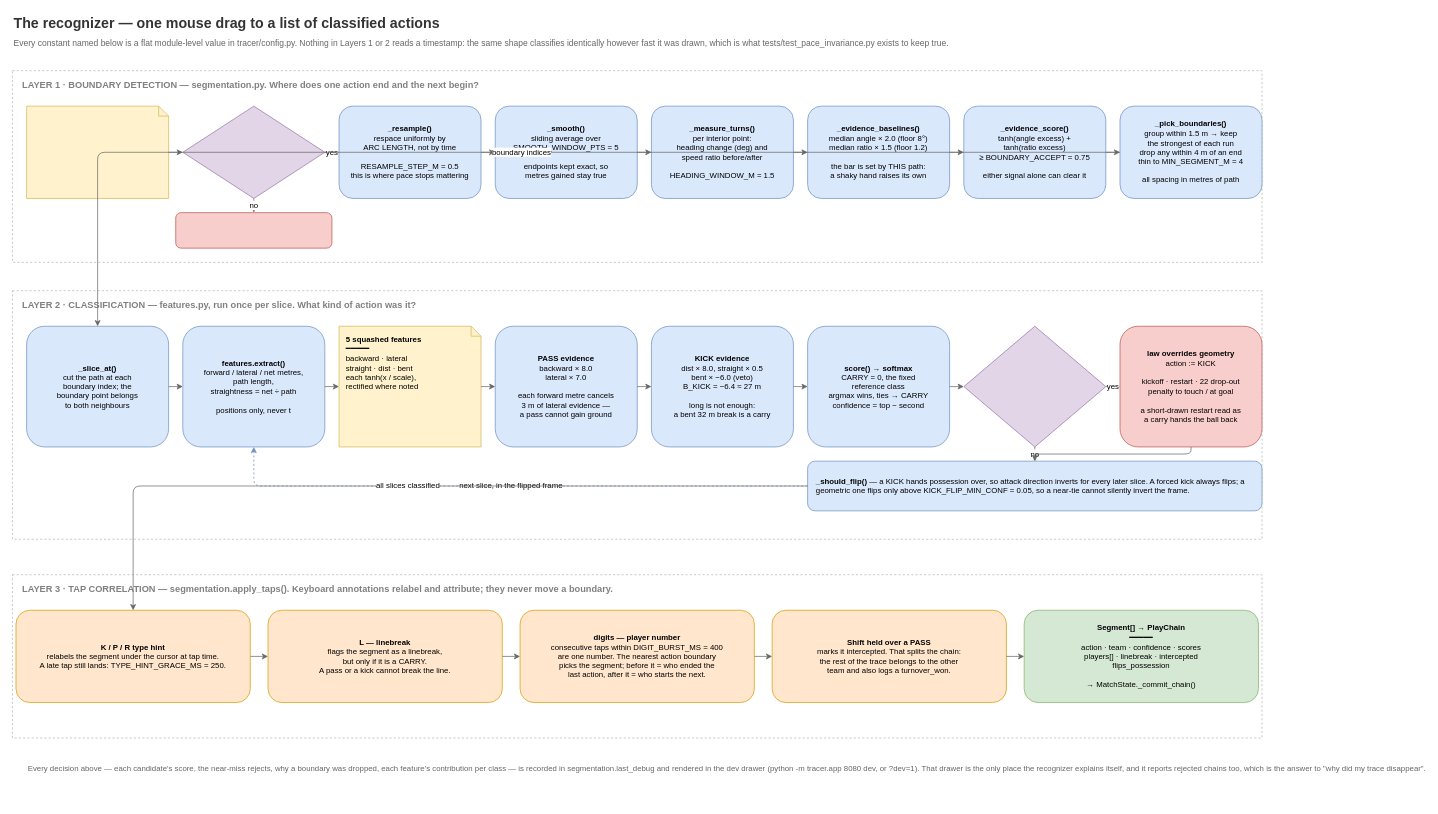
Image size: 1438x814. Some labels were removed from this diagram. Here are the shapes that lost their labels. From the top down, the centre of each, then its label:
the point at 97,151: raw path ━━━━━ PathPoint[] {x, y, t} pointer samples, uneven spacing
the point at 253,151: ≥ 3 points, and net ≥ 6 px?
the point at 253,230: rejected — no chain committed (dev drawer still logs why)
the point at 1034,386: first slice, and force_first set?
